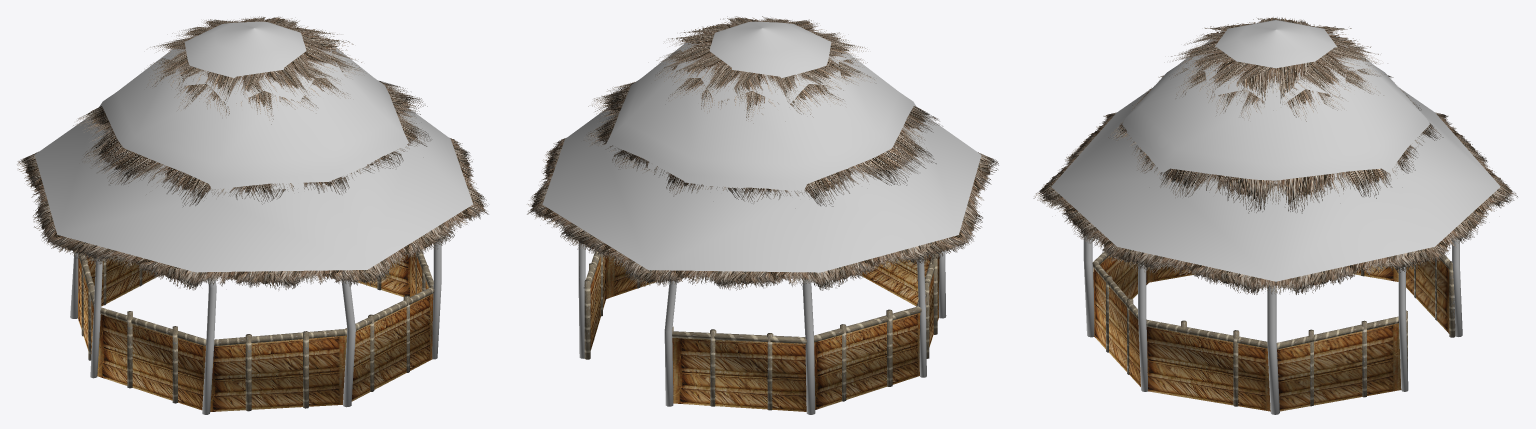
Rendered from round_hut.fbx.
3 views of the same model, side by side, from view 1: azimuth 30°, elevation 25°; view 2: azimuth 150°, elevation 25°; view 3: azimuth 270°, elevation 25° (orthographic).
Visible parts, largest first — view 1: Mesh; view 2: Mesh; view 3: Mesh.
Boxes of the visible parts, bbox=[...] form: Mesh: bbox=[17, 16, 488, 414]; Mesh: bbox=[527, 16, 998, 414]; Mesh: bbox=[1033, 17, 1517, 414].
Bounding box in the file's own units: 935 × 643 × 935.
